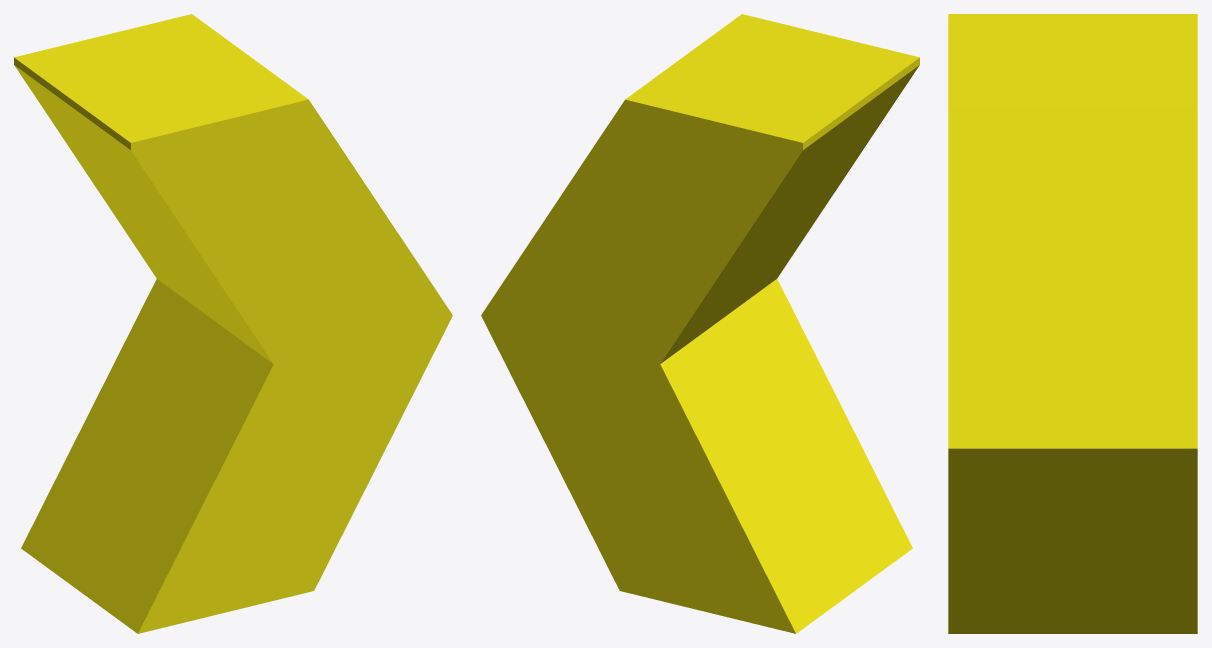
The model's file is DoorV5RightPanelButtonArrow.glb.
The picture shows the model from 3 angles, left to right: view 1: azimuth 30°, elevation 25°; view 2: azimuth 150°, elevation 25°; view 3: azimuth 270°, elevation 25°; orthographic projection. The views are drawn at different scales.
Visible parts, largest first — view 1: RightPanelArrow; view 2: RightPanelArrow; view 3: RightPanelArrow.
Part boxes in pixels (x1,y1,x2,y2): RightPanelArrow: (14,14,452,633); RightPanelArrow: (481,14,919,633); RightPanelArrow: (948,14,1197,633).
Size of the model in its own units: 0.1272 by 0.186 by 0.08.
